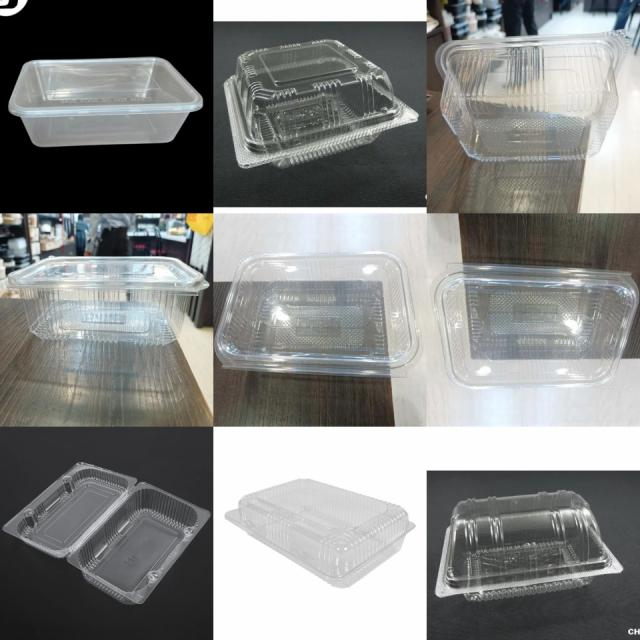Single-Use-Plastic: (4, 462, 210, 603), (432, 264, 638, 389), (215, 251, 420, 376), (436, 32, 630, 161), (225, 40, 418, 168), (225, 479, 414, 588), (436, 490, 622, 600), (8, 256, 208, 344), (9, 58, 202, 148)
